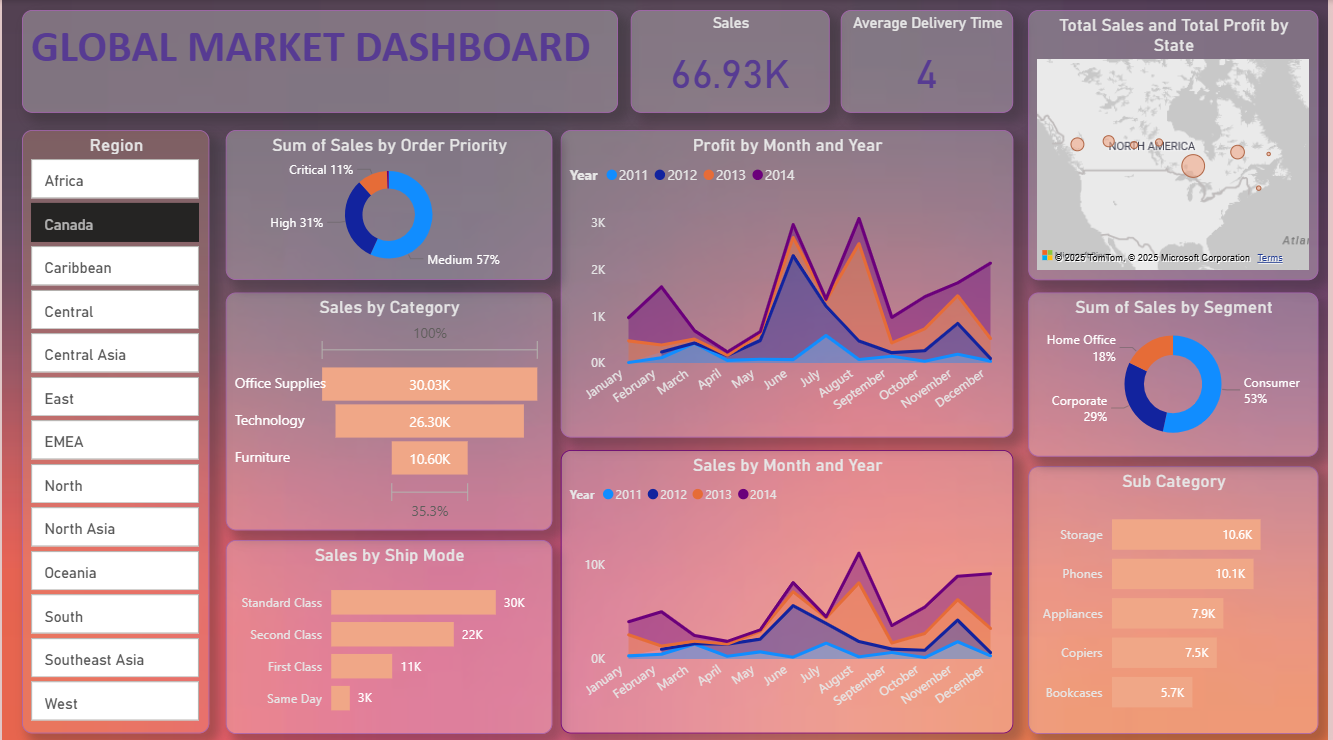

Layout of this report page (visuals, bound fields, positions):
{"tool":"powerbi","page":{"name":"Dashboard","canvas":[1280,720],"ordinal":0},"visuals":[{"type":"funnel","title":"Sales by Category","fields":{"Category":["Orders.Category"],"Y":["Sum(Orders.Sales)"]},"box":[216,282.3,314.9,229.2],"z":0},{"type":"clusteredBarChart","title":"Sub Category","fields":{"Category":["Orders.Sub-Category"],"Y":["Sum(Orders.Sales)"]},"box":[990.5,450,279.9,258.2],"z":1000},{"type":"clusteredBarChart","title":"Sales by Ship Mode","fields":{"Category":["Orders.Ship Mode"],"Y":["Sum(Orders.Sales)"]},"box":[216,521.2,314.9,187],"z":2000},{"type":"stackedAreaChart","title":"Sales by Month and Year","fields":{"Category":["Orders.Order Date.Variation.Date Hierarchy.Month"],"Y":["Sum(Orders.Sales)"],"Series":["Orders.Order Date.Variation.Date Hierarchy.Year"]},"box":[539.3,434.3,436.7,273.9],"z":3000},{"type":"stackedAreaChart","title":"Profit by Month and Year","fields":{"Category":["Orders.Order Date.Variation.Date Hierarchy.Month"],"Series":["Orders.Order Date.Variation.Date Hierarchy.Year"],"Y":["Sum(Orders.Profit)"]},"box":[539.3,125.5,436.7,296.8],"z":4000},{"type":"map","title":"Total Sales and Total Profit by State","fields":{"Category":["Orders.State"],"Size":["Sum(Orders.Sales)"]},"box":[990.5,9.7,279.9,260.6],"z":5000},{"type":"donutChart","fields":{"Category":["Orders.Segment"],"Y":["Sum(Orders.Sales)"]},"box":[990.5,282.3,279.9,158],"z":6000},{"type":"donutChart","fields":{"Category":["Orders.Order Priority"],"Y":["Sum(Orders.Sales)"]},"box":[216,125.5,314.9,144.8],"z":7000},{"type":"advancedSlicerVisual","fields":{"Values":["Orders.Region"]},"box":[19.3,125.5,181,582.7],"z":8000},{"type":"textbox","box":[19.3,9.7,575.5,98.9],"z":9000},{"type":"card","title":"Sales","fields":{"Values":["Sum(Orders.Sales)"]},"box":[606.8,9.7,191.8,98.9],"z":10000},{"type":"card","title":"Average Delivery Time","fields":{"Values":["Avg(Orders.AvgDelivery)"]},"box":[809.5,9.7,166.5,98.9],"z":11000}]}

Visuals, with their boxes in screenshot pixels (x1, y1, x2, y2), scaled from the page's 1280x720 canvas onto the 1333x740 screenshot:
"Sales by Category" funnel: bbox=[225, 290, 553, 526]
"Sub Category" clusteredBarChart: bbox=[1032, 462, 1323, 728]
"Sales by Ship Mode" clusteredBarChart: bbox=[225, 536, 553, 728]
"Sales by Month and Year" stackedAreaChart: bbox=[562, 446, 1016, 728]
"Profit by Month and Year" stackedAreaChart: bbox=[562, 129, 1016, 434]
"Total Sales and Total Profit by State" map: bbox=[1032, 10, 1323, 278]
donutChart - Orders.Segment x Sum(Orders.Sales): bbox=[1032, 290, 1323, 453]
donutChart - Orders.Order Priority x Sum(Orders.Sales): bbox=[225, 129, 553, 278]
advancedSlicerVisual - Orders.Region: bbox=[20, 129, 209, 728]
textbox: bbox=[20, 10, 619, 112]
"Sales" card: bbox=[632, 10, 832, 112]
"Average Delivery Time" card: bbox=[843, 10, 1016, 112]
